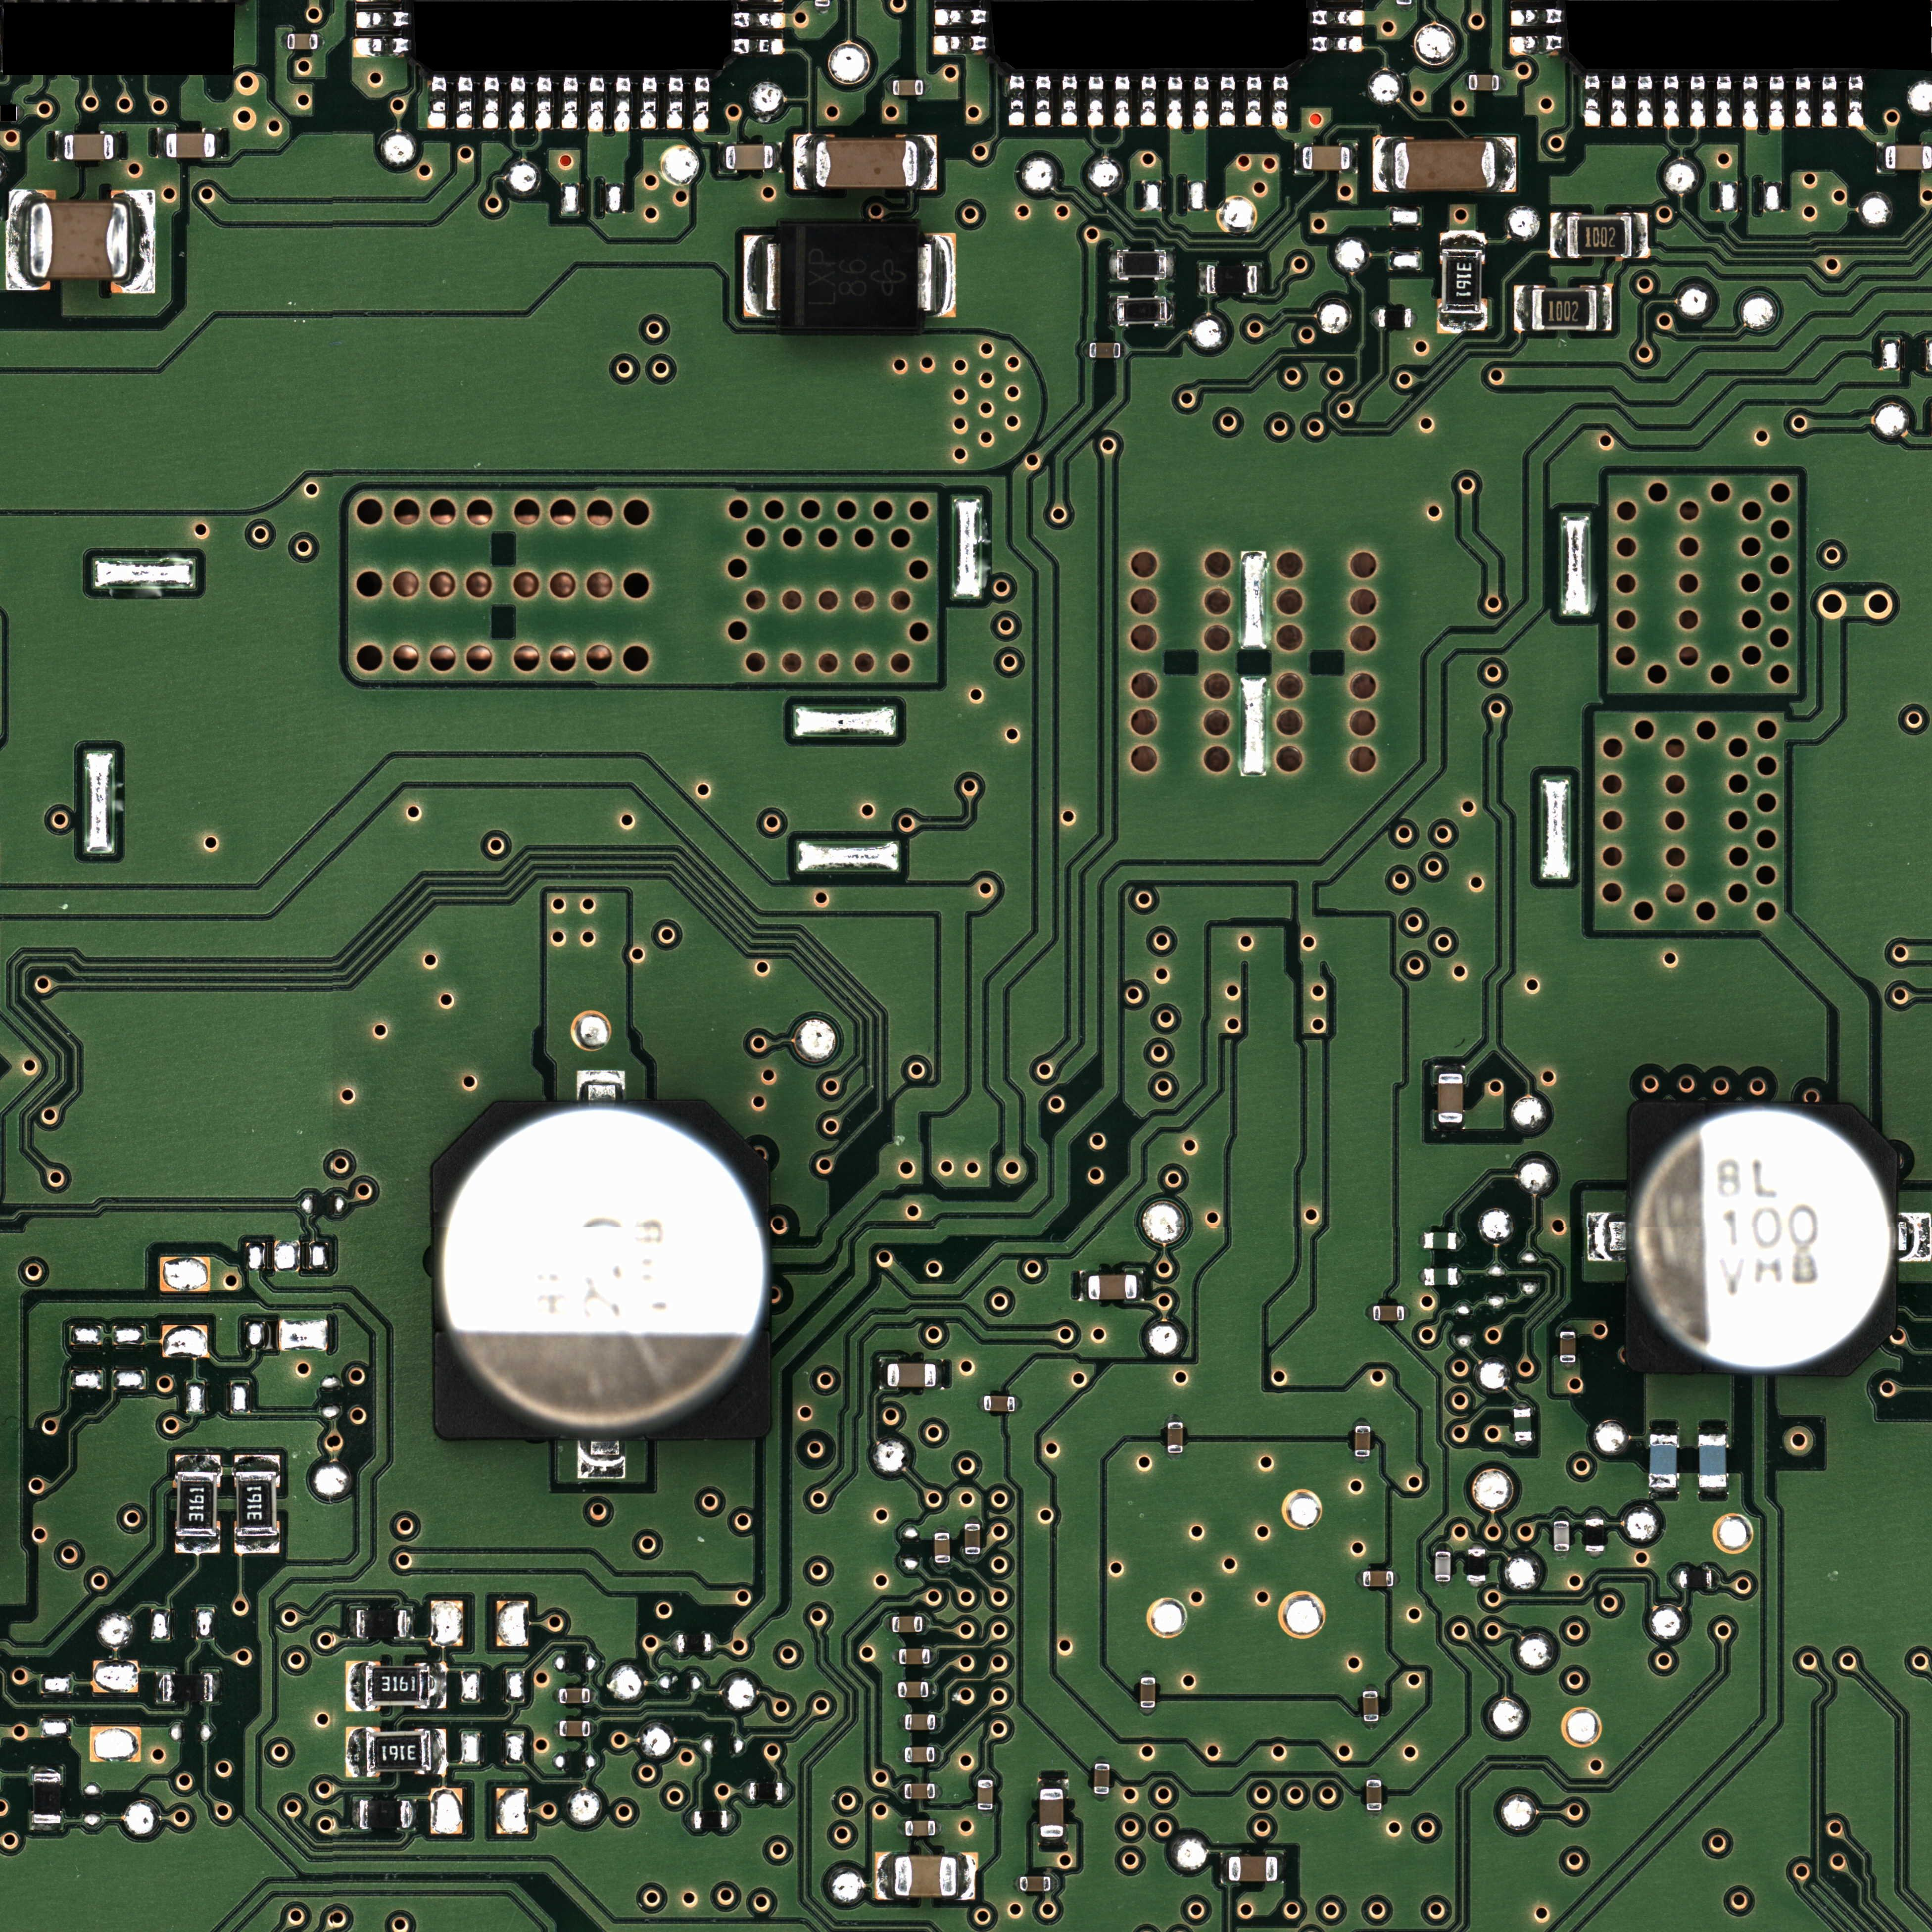Package: (426, 1100, 773, 1440), (1626, 1100, 1900, 1375), (780, 225, 918, 331), (30, 202, 127, 278), (816, 138, 918, 188), (1394, 140, 1495, 189), (1532, 288, 1598, 331), (1568, 214, 1633, 257), (364, 1665, 430, 1707), (1440, 249, 1483, 313), (366, 1732, 432, 1773), (177, 1472, 218, 1536), (235, 1472, 276, 1536), (893, 1856, 957, 1897), (359, 1799, 410, 1829), (1649, 1435, 1677, 1488), (1698, 1435, 1727, 1486), (356, 1610, 407, 1638), (163, 1674, 212, 1702), (1207, 265, 1256, 294), (34, 1773, 60, 1824), (1116, 297, 1168, 324), (1116, 251, 1166, 278), (1088, 1274, 1136, 1300), (1438, 1074, 1463, 1123), (1228, 1856, 1277, 1881), (64, 134, 113, 159), (1886, 143, 1932, 170), (725, 145, 773, 170), (166, 133, 214, 157), (888, 1362, 936, 1387), (1040, 1789, 1063, 1836), (1302, 147, 1350, 170), (1679, 1569, 1713, 1589), (1585, 1520, 1605, 1552), (1467, 1550, 1486, 1582), (1378, 310, 1412, 327), (678, 1635, 711, 1652), (750, 1783, 782, 1801), (695, 1812, 727, 1829), (1424, 1269, 1458, 1284), (1514, 1408, 1530, 1442), (1424, 1233, 1456, 1249), (559, 1688, 591, 1704), (899, 1649, 931, 1665), (984, 1396, 1016, 1412), (1366, 1780, 1382, 1812), (964, 1523, 980, 1555), (904, 1783, 934, 1799), (893, 80, 924, 96), (1468, 74, 1499, 90), (1362, 1691, 1378, 1721), (287, 34, 317, 50), (1093, 1764, 1109, 1794), (1435, 1552, 1451, 1582), (906, 1821, 936, 1836), (892, 1617, 922, 1633), (1362, 1571, 1392, 1587), (1168, 1422, 1184, 1453), (1560, 1332, 1576, 1362), (1553, 1522, 1569, 1552), (906, 1714, 936, 1730), (934, 1532, 950, 1562), (906, 1746, 934, 1762), (1373, 1306, 1405, 1320), (1355, 1426, 1369, 1456), (1090, 343, 1120, 357), (978, 1780, 993, 1810), (1021, 1877, 1051, 1891), (899, 1683, 929, 1697), (1141, 1677, 1155, 1707), (559, 1721, 589, 1736)
Solder: (920, 232, 955, 317), (743, 235, 778, 317), (129, 189, 156, 294), (5, 189, 30, 290), (579, 1440, 626, 1479), (1587, 1212, 1624, 1261), (1898, 1212, 1930, 1261), (577, 1070, 625, 1100), (793, 134, 816, 189), (1373, 136, 1392, 193), (918, 134, 938, 191), (1497, 136, 1516, 193), (356, 11, 412, 28), (356, 37, 412, 55), (732, 11, 789, 28), (732, 37, 789, 55), (932, 9, 989, 27), (932, 35, 989, 53), (1309, 9, 1366, 27), (1309, 35, 1366, 53), (1507, 9, 1564, 27), (345, 1727, 364, 1778), (345, 1661, 364, 1713), (1509, 35, 1564, 53), (430, 76, 448, 129), (456, 76, 474, 129), (481, 76, 499, 129), (508, 76, 525, 129), (614, 76, 632, 129), (640, 76, 658, 129), (665, 76, 683, 129), (692, 76, 709, 129), (1088, 74, 1106, 127), (1272, 74, 1290, 127), (1635, 74, 1652, 127), (1690, 74, 1707, 127), (1716, 74, 1734, 127), (1741, 74, 1759, 127), (1767, 74, 1785, 127), (1819, 74, 1836, 127), (957, 1852, 977, 1900), (563, 78, 580, 129), (587, 78, 605, 129), (1060, 76, 1077, 127), (1115, 76, 1132, 127), (1141, 76, 1159, 127), (1166, 76, 1184, 127), (1192, 76, 1210, 127), (1244, 76, 1261, 127), (1663, 74, 1681, 126), (1847, 74, 1865, 126), (1437, 315, 1486, 333), (876, 1852, 893, 1900), (1008, 74, 1024, 127), (1612, 74, 1628, 127), (1796, 74, 1812, 127), (536, 78, 552, 129), (1037, 76, 1053, 127), (1221, 76, 1237, 127), (1583, 74, 1599, 126), (1440, 232, 1486, 249), (1514, 285, 1532, 331), (430, 1663, 448, 1709), (175, 1454, 221, 1472), (1550, 212, 1566, 258), (1633, 212, 1649, 258), (175, 1537, 221, 1553), (234, 1454, 280, 1470), (235, 1537, 280, 1553), (1598, 285, 1612, 331), (432, 1729, 446, 1775), (53, 131, 64, 161), (1039, 1778, 1069, 1789), (157, 127, 166, 159), (1433, 1065, 1465, 1074), (1079, 1270, 1088, 1302), (1198, 264, 1207, 294), (1649, 1426, 1679, 1435), (1698, 1426, 1729, 1435), (773, 142, 782, 172), (1039, 1836, 1067, 1845), (1166, 251, 1175, 280), (1875, 143, 1884, 172), (30, 1824, 62, 1831), (1221, 1852, 1228, 1884), (214, 1670, 221, 1702), (30, 1766, 62, 1773), (1433, 1123, 1465, 1131), (352, 1798, 359, 1829), (1277, 1852, 1284, 1882), (1295, 143, 1302, 173), (113, 131, 120, 161), (1649, 1488, 1679, 1495), (1698, 1488, 1729, 1495), (718, 143, 725, 173), (349, 1608, 356, 1638), (407, 1608, 414, 1638), (1138, 1270, 1145, 1300), (1109, 295, 1116, 326), (410, 1799, 418, 1829), (216, 129, 223, 159), (1109, 249, 1116, 280), (156, 1672, 163, 1702), (879, 1359, 886, 1389), (1350, 143, 1357, 172), (936, 1361, 943, 1389), (1258, 264, 1263, 294), (1166, 1414, 1184, 1422), (1364, 1304, 1373, 1322), (1353, 1417, 1371, 1426), (1559, 1323, 1576, 1332), (1435, 1543, 1453, 1552), (1435, 1582, 1453, 1591), (1168, 297, 1173, 326), (897, 1746, 906, 1762), (1362, 1721, 1378, 1730), (934, 1783, 943, 1799), (589, 1721, 598, 1737), (934, 1562, 950, 1571), (885, 80, 893, 96), (1362, 1683, 1378, 1691), (1553, 1513, 1569, 1522), (1168, 1453, 1184, 1461), (1585, 1511, 1605, 1518), (1456, 1231, 1463, 1251), (727, 1810, 734, 1829), (1713, 1569, 1720, 1589), (1585, 1552, 1605, 1559), (897, 1821, 906, 1835), (924, 1615, 931, 1633), (1559, 1362, 1576, 1369), (929, 1681, 936, 1698), (885, 1615, 892, 1633), (934, 1746, 941, 1764), (1513, 1401, 1530, 1408), (1405, 1304, 1412, 1322), (1417, 1269, 1424, 1286), (1371, 310, 1378, 327), (1417, 1231, 1424, 1249), (977, 1394, 984, 1412), (814, 7, 832, 14), (924, 80, 931, 96), (1139, 1709, 1155, 1716), (931, 1649, 938, 1665), (1353, 1458, 1369, 1465), (1014, 1875, 1021, 1891), (897, 1783, 904, 1799), (897, 1714, 904, 1730), (1051, 1875, 1058, 1891), (591, 1688, 598, 1704), (1461, 74, 1468, 90), (892, 1649, 899, 1665), (1093, 1794, 1109, 1801), (1394, 1571, 1401, 1587), (1366, 1812, 1382, 1819), (964, 1555, 980, 1562), (1366, 1773, 1382, 1780), (1139, 1670, 1155, 1677), (934, 1525, 950, 1532), (977, 1810, 993, 1817), (1120, 341, 1127, 357), (964, 1516, 980, 1523), (1355, 1571, 1362, 1587), (1093, 1757, 1109, 1764), (552, 1688, 559, 1704), (1083, 341, 1090, 357), (1499, 74, 1506, 90), (743, 1783, 750, 1799), (1016, 1396, 1023, 1412), (1468, 1543, 1484, 1550), (1553, 1552, 1569, 1559), (1412, 308, 1417, 327), (711, 1633, 717, 1652), (890, 1683, 897, 1697), (978, 1773, 993, 1780), (552, 1721, 559, 1736), (1514, 1442, 1532, 1447), (688, 1812, 694, 1829), (281, 32, 287, 50), (672, 1635, 678, 1652), (1674, 1569, 1679, 1587), (1468, 1582, 1486, 1587), (18, 106, 25, 119), (936, 1714, 941, 1730), (318, 34, 324, 50), (784, 1783, 789, 1799), (1458, 1269, 1463, 1284), (936, 1821, 941, 1835)
